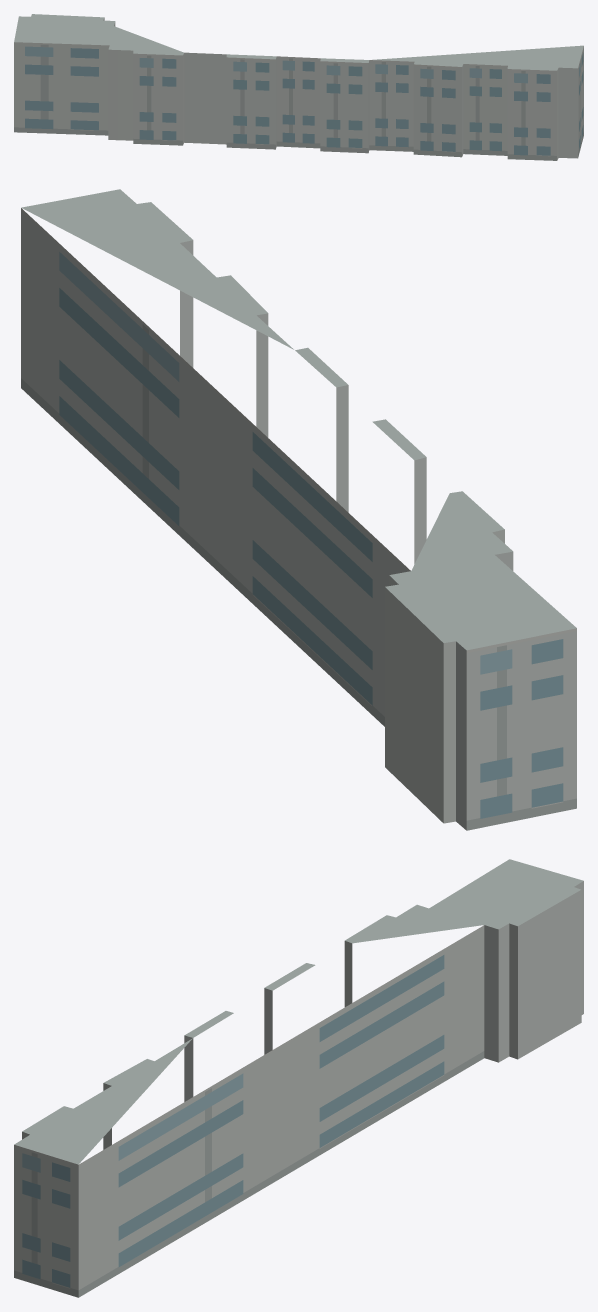
The model's file is survey-upis-32592485.glb.
The picture shows the model from 3 angles, top to bottom: view 1: azimuth 30°, elevation 25°; view 2: azimuth 150°, elevation 25°; view 3: azimuth 270°, elevation 25°; orthographic projection. The views are drawn at different scales.
Parts seen in each view (by area): view 1: survey-upis-32592485.tmp; view 2: survey-upis-32592485.tmp; view 3: survey-upis-32592485.tmp.
Boxes of the visible parts, x1,y1,x2,y2 form: survey-upis-32592485.tmp: [14, 14, 583, 160]; survey-upis-32592485.tmp: [21, 189, 576, 830]; survey-upis-32592485.tmp: [14, 859, 583, 1297].
Size of the model in its own units: 75.04 by 15.25 by 59.16.
